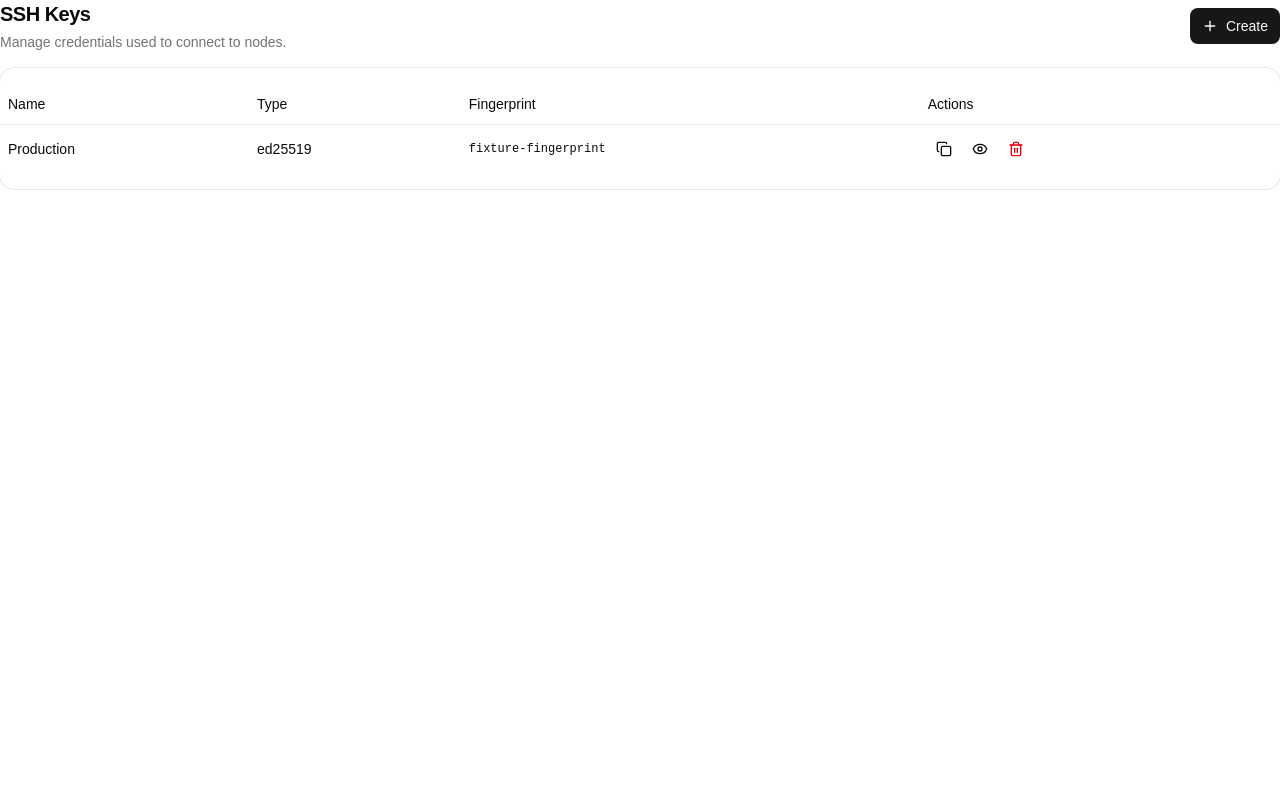
Scenario: requires confirmation to reveal and clears secrets on identity change
The image size is (1280, 800).
Click the button named "Private Key (optional) · Production": [980, 148] box x1=964 y1=132 x2=996 y2=164
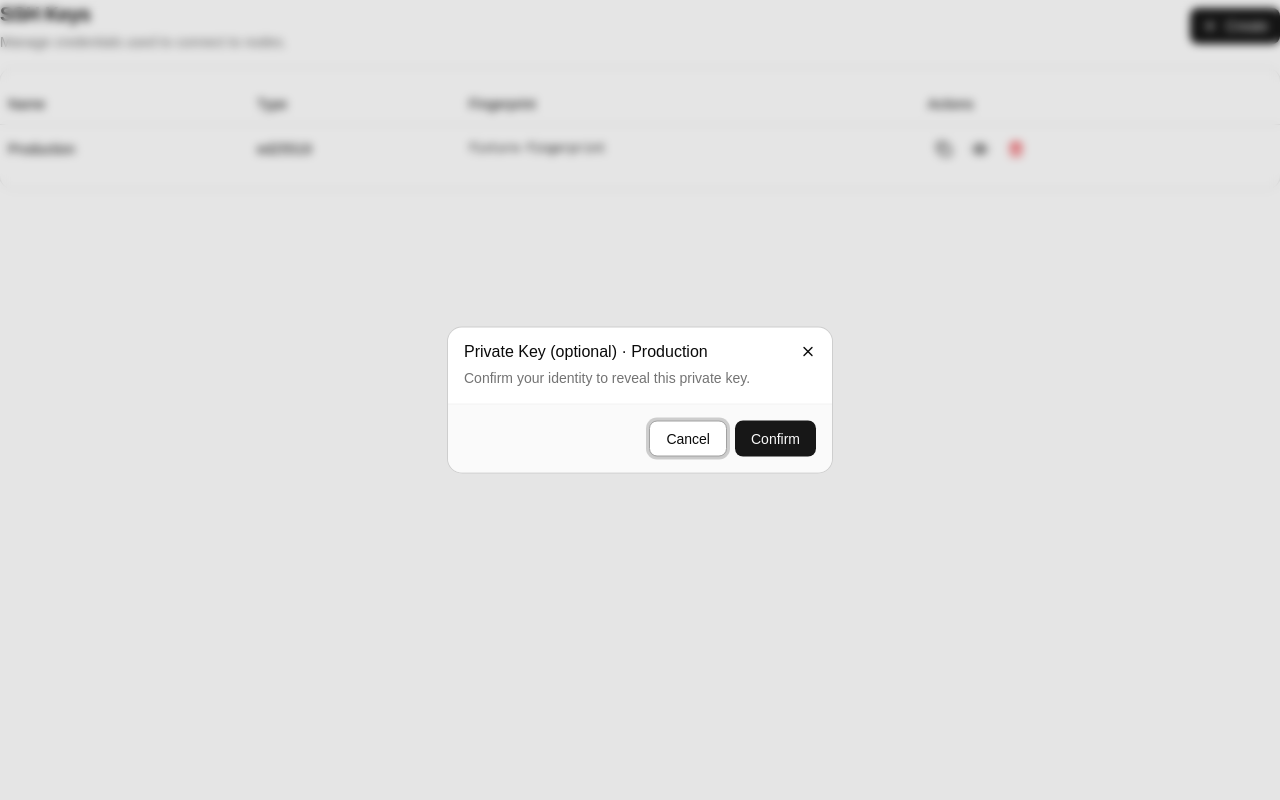
Click the button "Confirm": [776, 438] box x1=735 y1=420 x2=816 y2=456
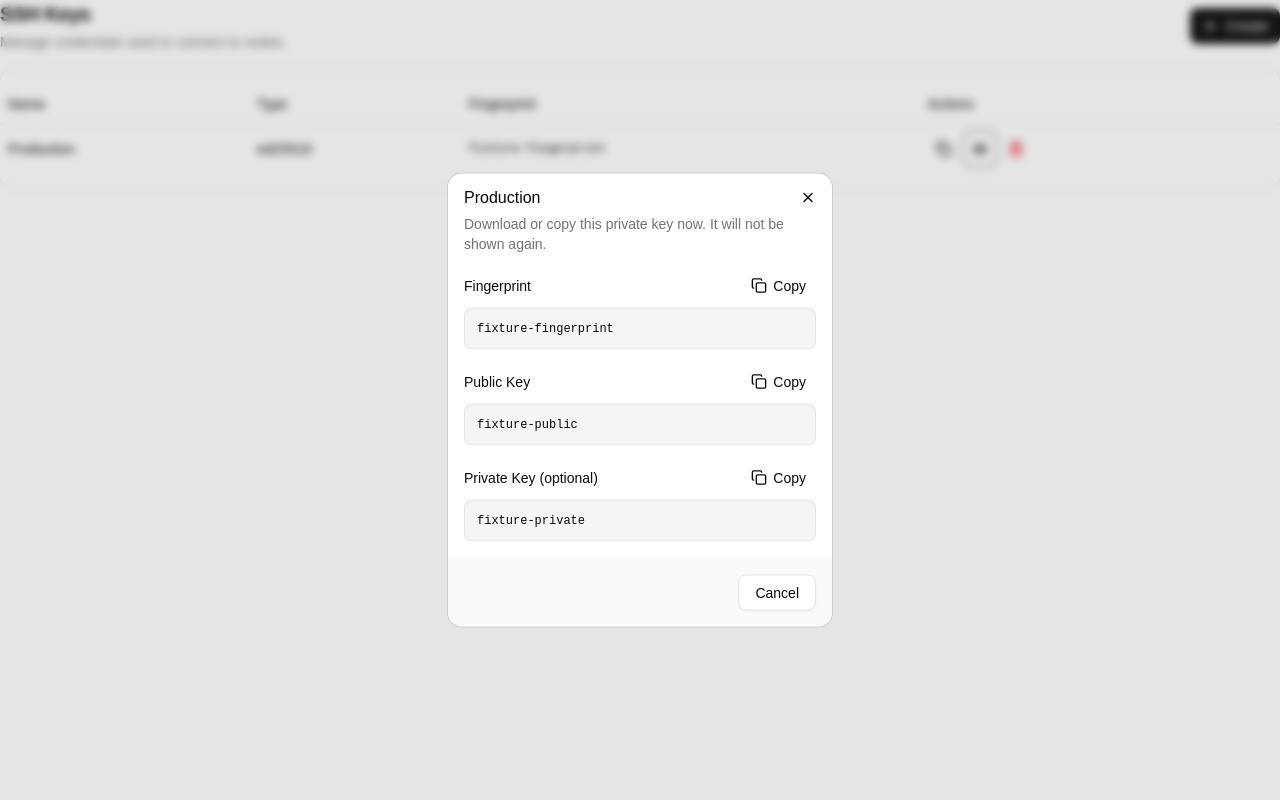
Expected: the text "fixture-private" is shown, x1=464 y1=500 x2=816 y2=542
